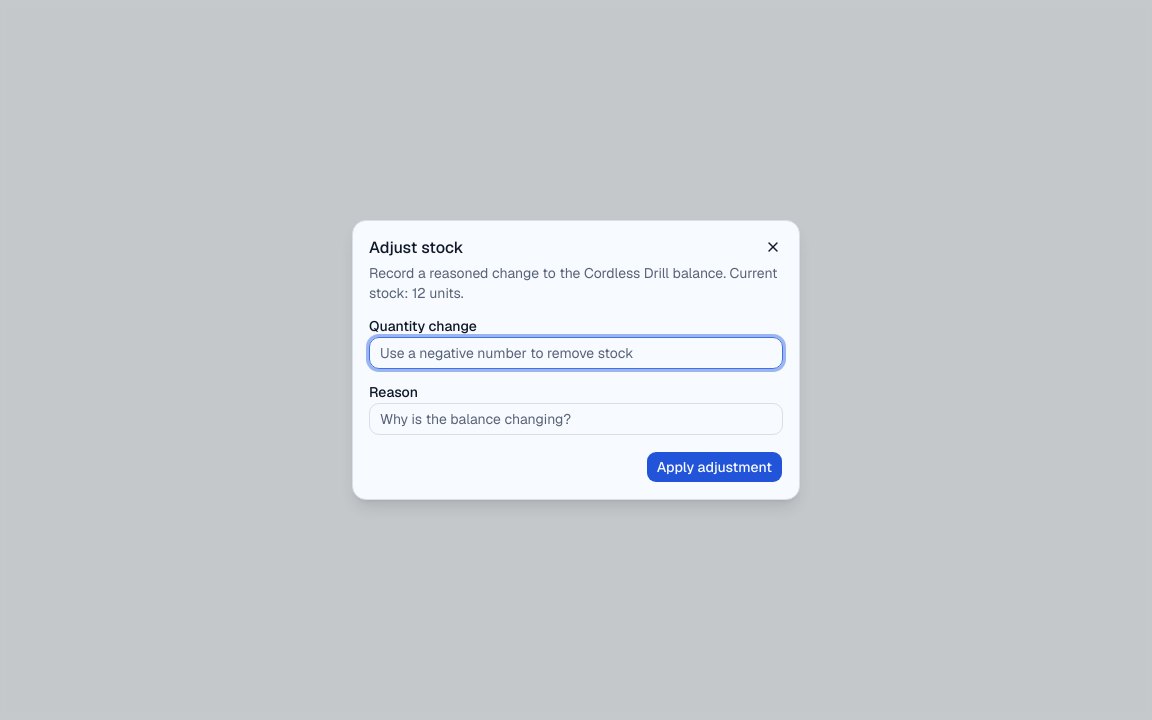
it: StockAdjustmentDialog › insufficient-stock failures keep the dialog open and echo the balance
The width and height of the screenshot is (1152, 720).
Type "-50" into the field labelled "Quantity change".
click(576, 353); type("-50")  # box [369, 337, 783, 369]
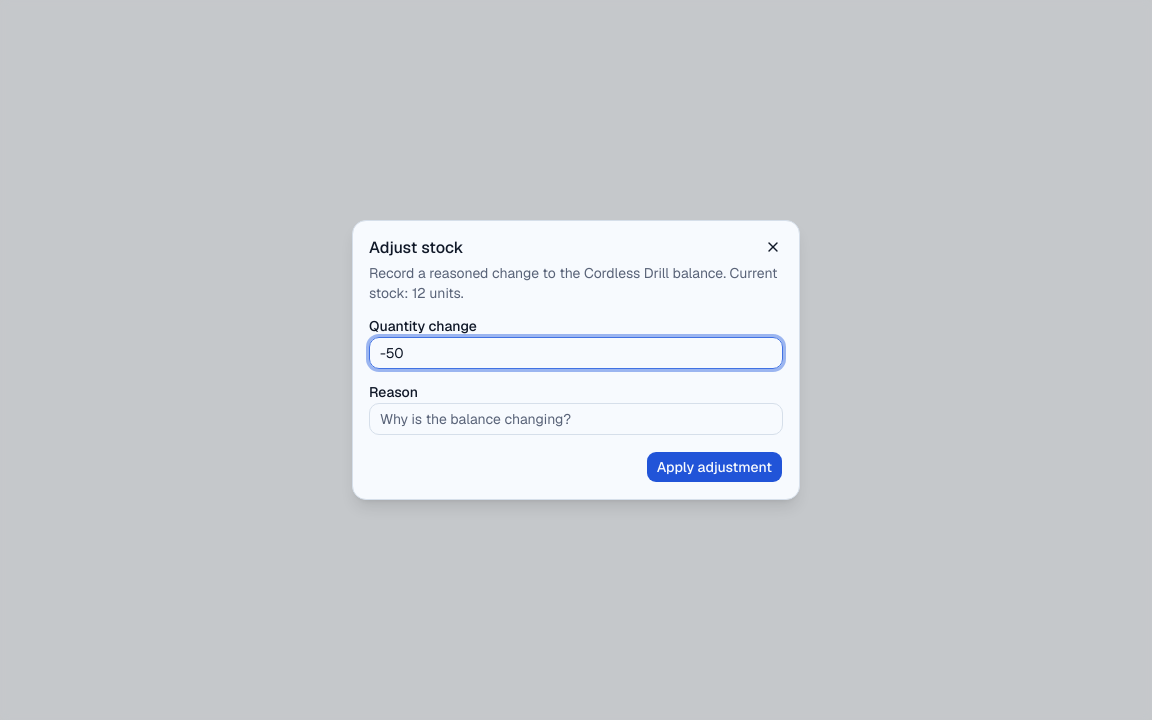
Type "Shrinkage write-off" into the field labelled "Reason".
click(576, 419); type("Shrinkage write-off")  # box [369, 403, 783, 435]
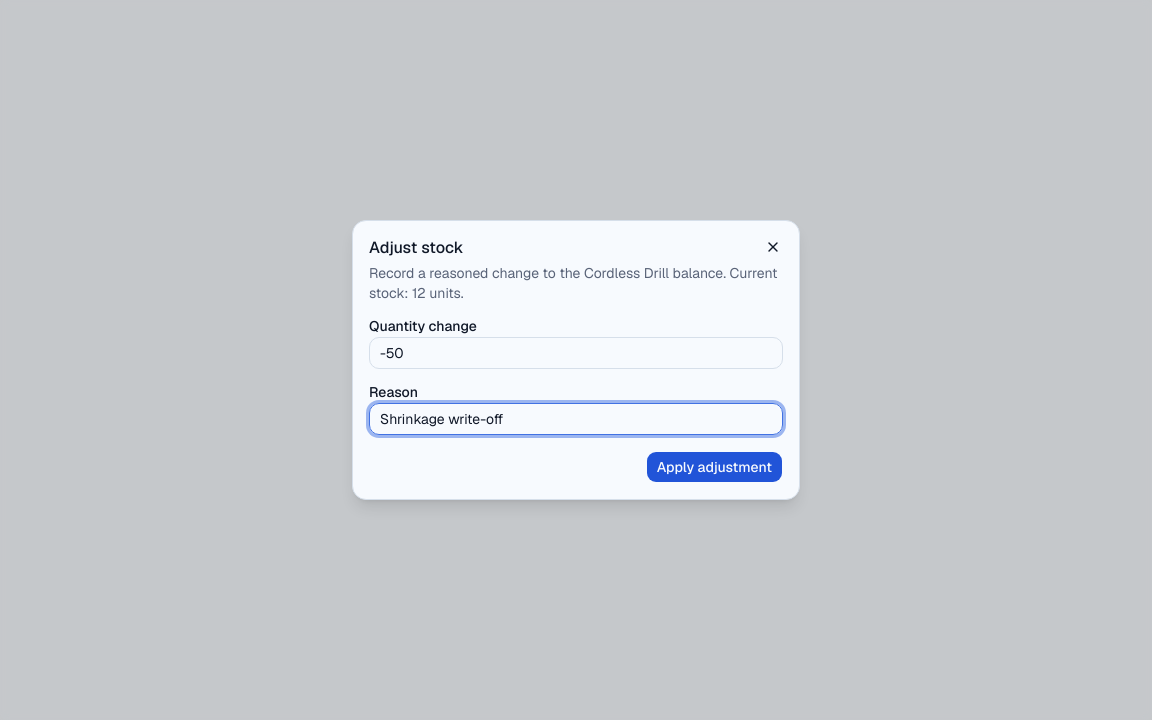
Click the button "Apply adjustment".
click(714, 467)  # box [646, 451, 783, 483]
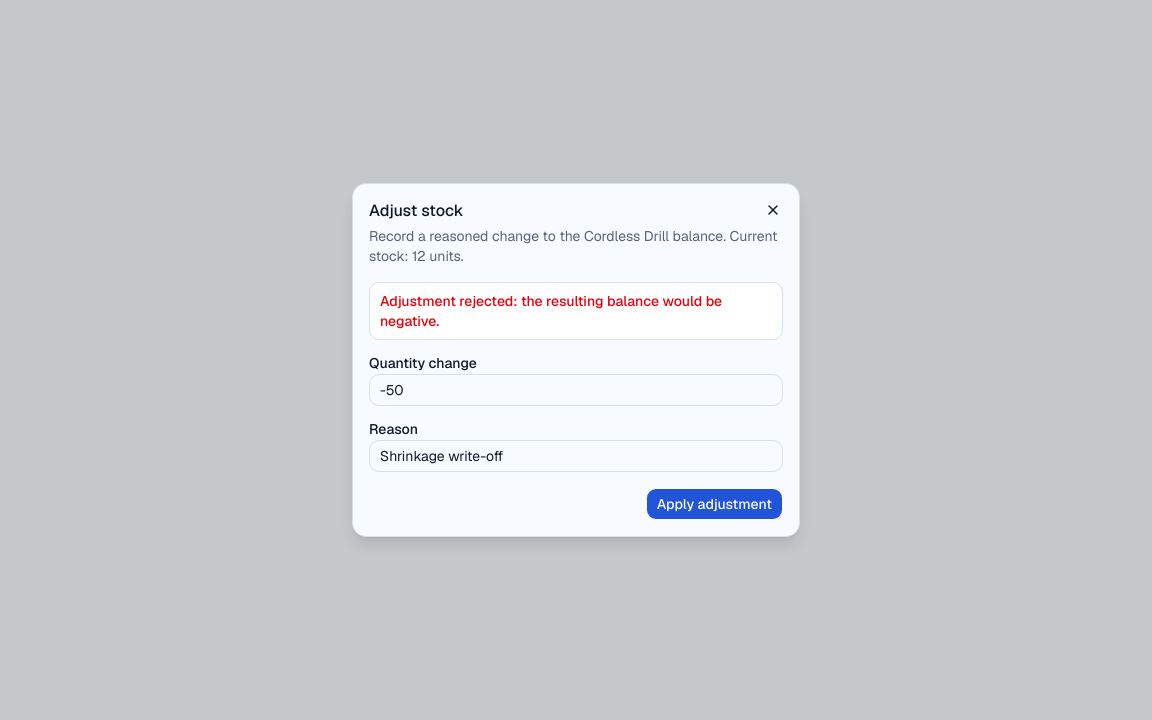
Expected: the dialog is shown, [352, 183, 800, 537]
Now the message shows "negative", box [380, 292, 722, 330]
